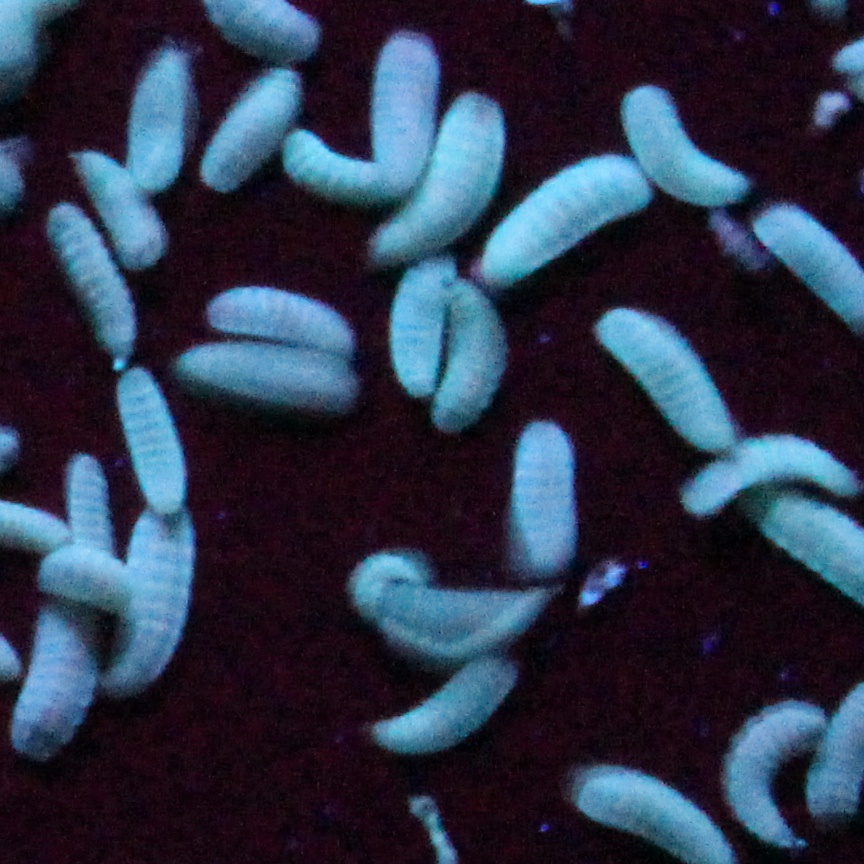larve: (289, 31, 430, 199), (378, 93, 514, 263), (596, 304, 730, 454), (481, 162, 642, 281), (353, 565, 548, 652), (721, 701, 829, 847), (8, 610, 101, 768), (621, 78, 742, 196), (108, 530, 193, 697), (52, 209, 137, 375), (376, 658, 517, 755), (70, 150, 166, 275), (183, 349, 358, 414), (209, 75, 303, 185), (115, 376, 188, 516), (512, 419, 575, 578), (432, 276, 489, 436), (207, 286, 362, 344), (122, 40, 180, 195), (393, 268, 450, 396), (38, 551, 132, 609), (67, 455, 108, 549)
